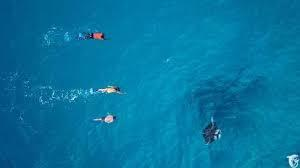Animal: (201, 120, 226, 147)
Person: (69, 30, 108, 40), (94, 114, 119, 127), (93, 87, 126, 96)
